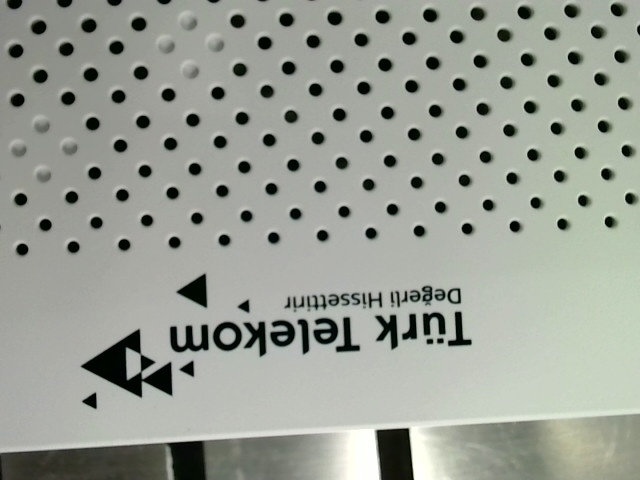AQ_TURKTelekom: (71, 268, 476, 421)
